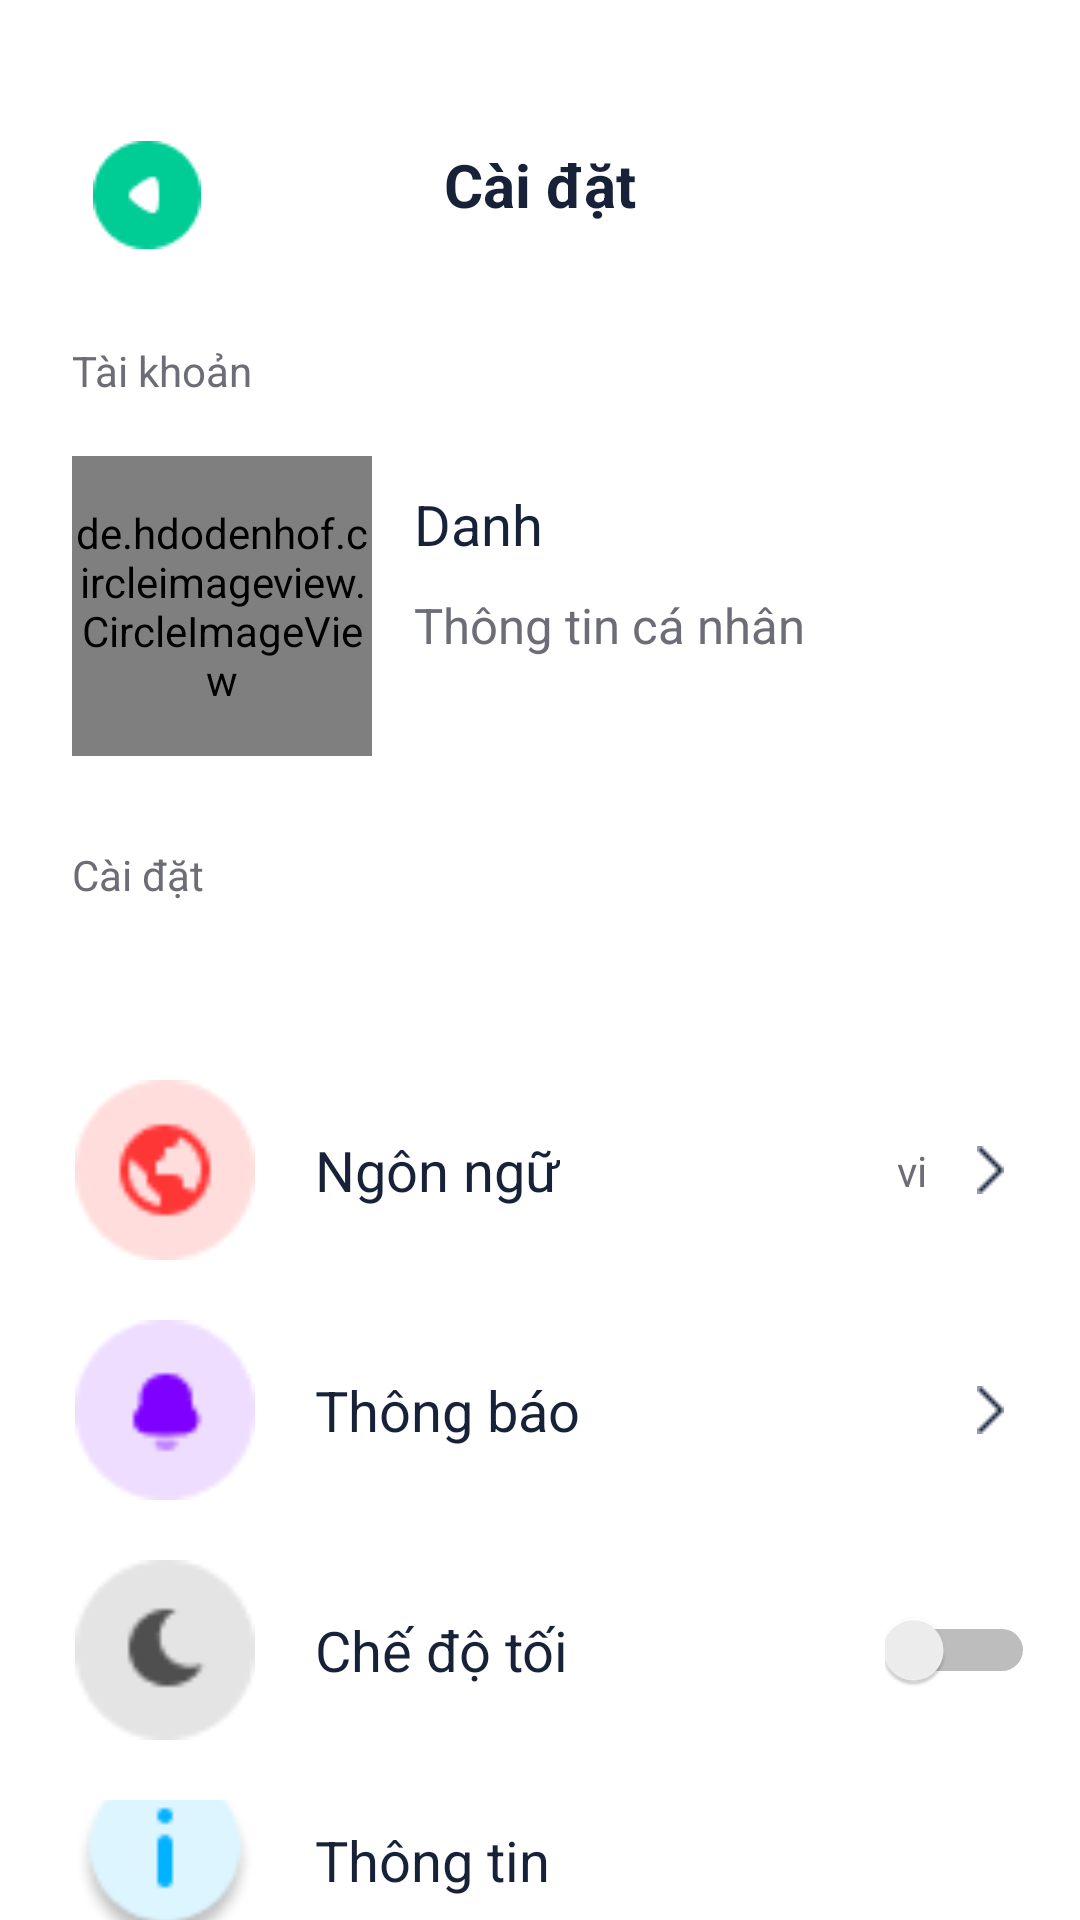

Screen size 1080w x 1920h. Icon name, then its box in pixels as (x1, y1, x2, y2):
back: (93, 141, 201, 249)
darkmode: (75, 1560, 255, 1740)
language: (75, 1080, 255, 1260)
notification: (75, 1320, 255, 1500)
